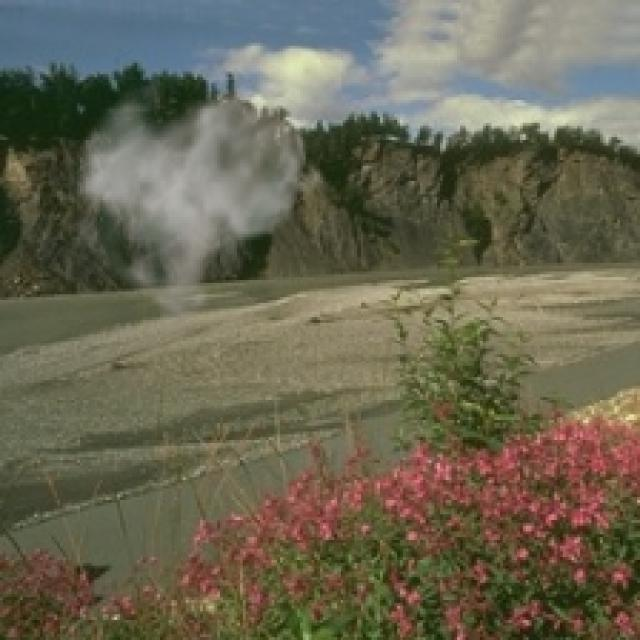Smoke: (62, 66, 328, 337)
